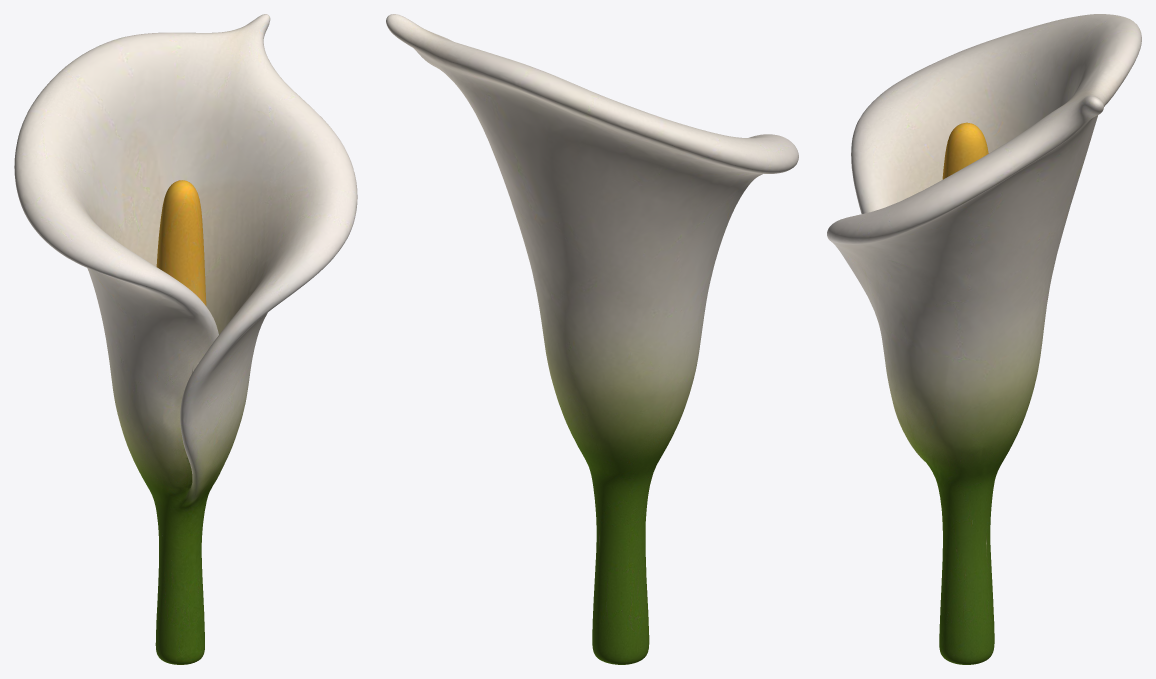
The model's file is calla_lily.glb.
The picture shows the model from 3 angles, left to right: view 1: azimuth 30°, elevation 25°; view 2: azimuth 150°, elevation 25°; view 3: azimuth 270°, elevation 25°; orthographic projection. The views are drawn at different scales.
Size of the model in its own units: 1.05 by 1.9 by 0.8554.
1 material, 1 textured.
